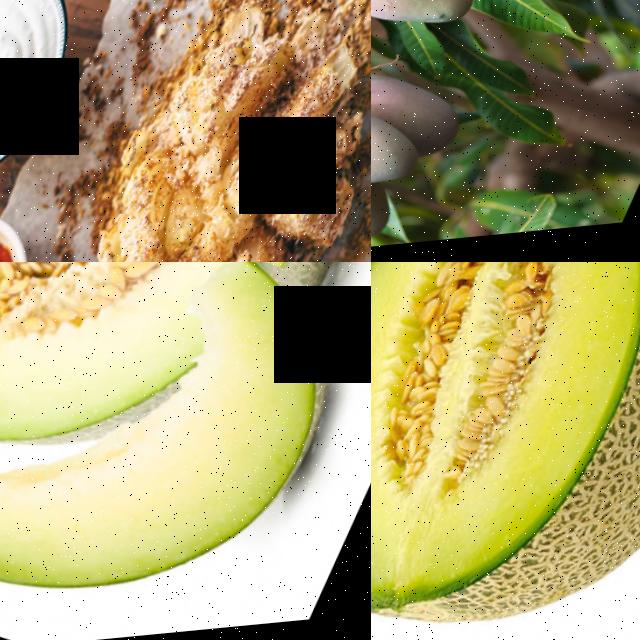mango: (371, 54, 476, 159), (371, 78, 435, 218), (371, 0, 498, 63), (371, 146, 406, 262)
melon: (371, 262, 640, 640), (0, 335, 303, 640), (0, 262, 310, 509)
